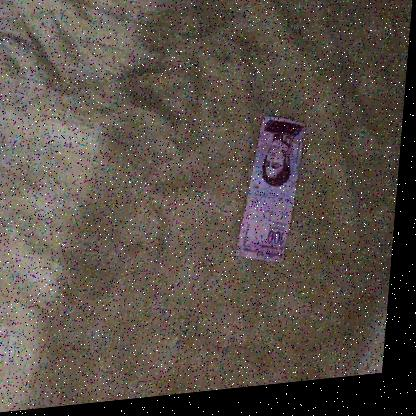one_hundred-front-vef: (239, 119, 310, 273)
